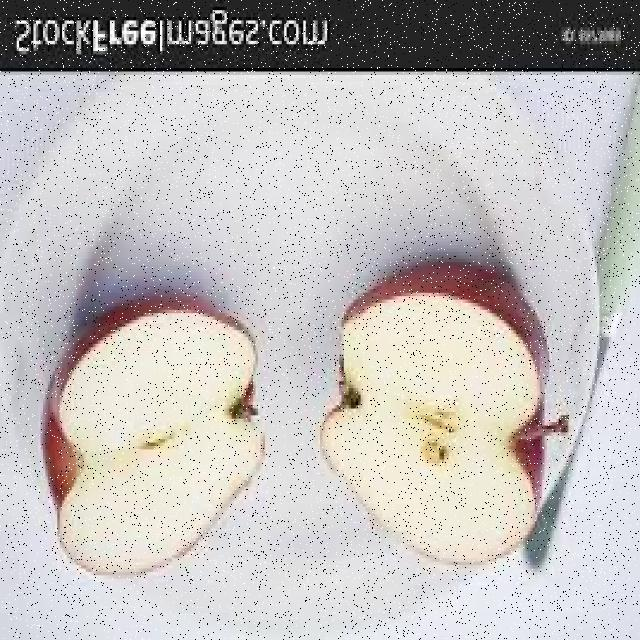Apple: (320, 270, 556, 565), (42, 306, 263, 576)
